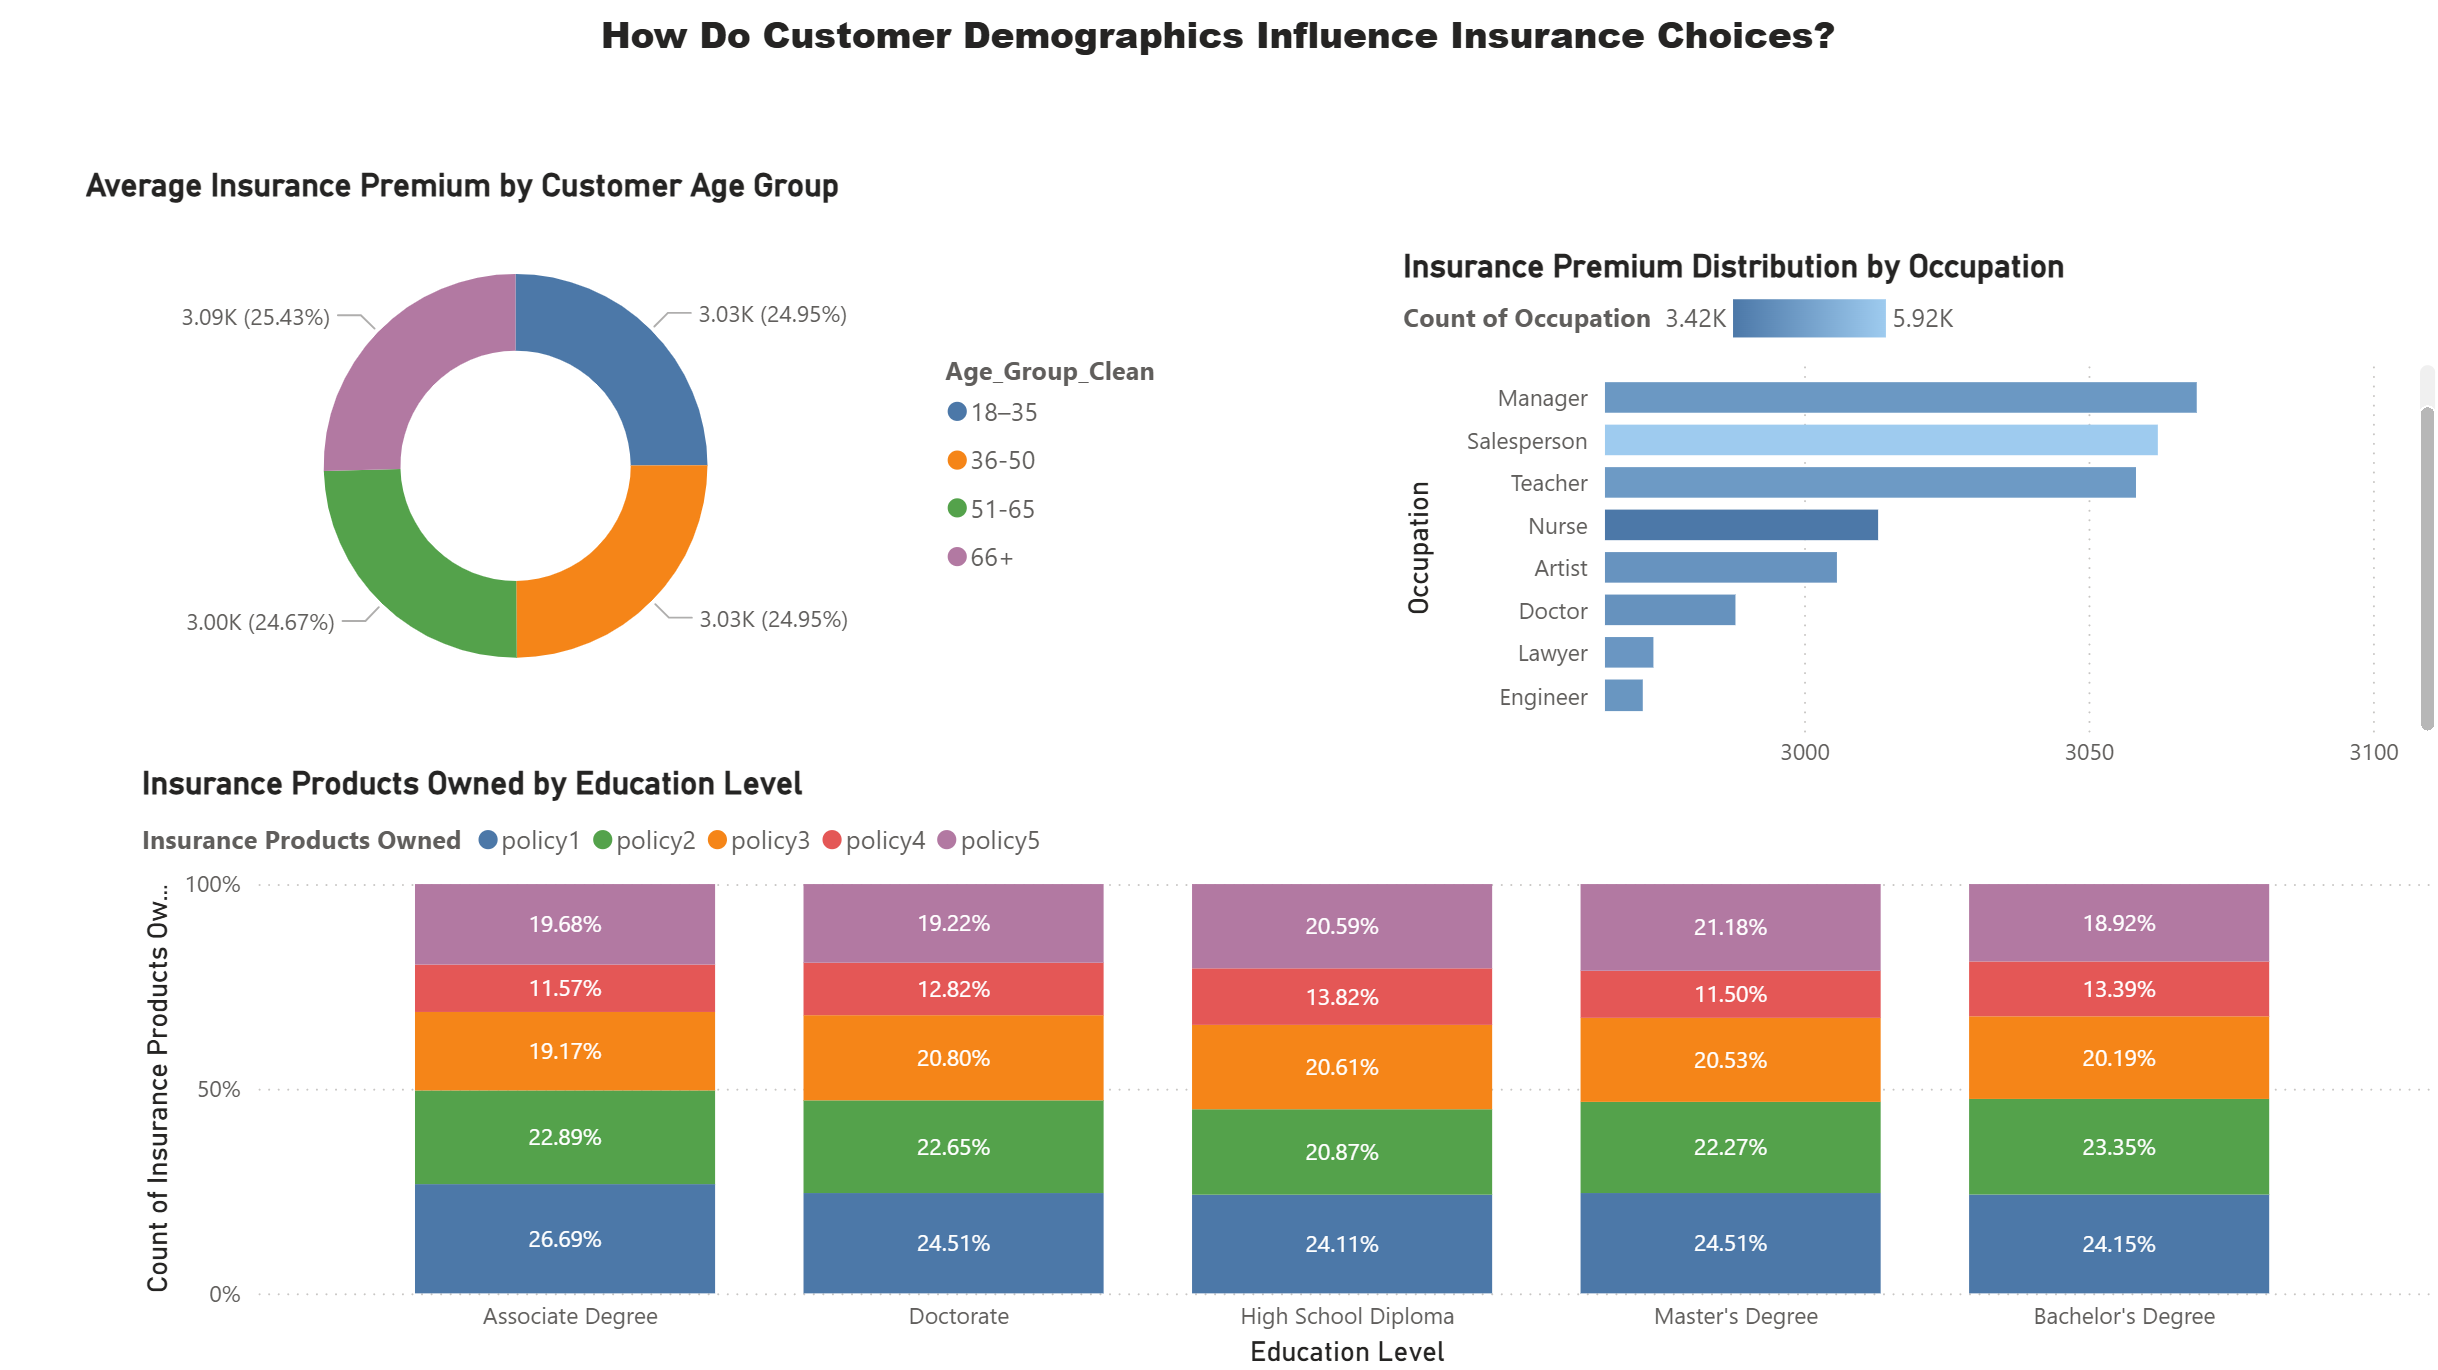

The page's visual inventory and layout, read from the dashboard file:
{"tool":"powerbi","page":{"name":"Page 1","canvas":[1280,720],"ordinal":3},"visuals":[{"type":"textbox","box":[310.8,0,666,70.4],"z":0},{"type":"donutChart","title":"Average Insurance Premium by Customer Age Group","fields":{"Category":["Customer_data.Age_Group_Clean"],"Y":["Avg(Policy_data.Premium Amount)"]},"box":[27.1,87.1,612.9,294.3],"z":1000},{"type":"clusteredBarChart","title":"Insurance Premium Distribution by Occupation","fields":{"Category":["Customer_data.Occupation"],"Y":["Avg(Policy_data.Premium Amount)"]},"box":[707.1,87.1,551.4,294.3],"z":2000},{"type":"hundredPercentStackedColumnChart","title":"Insurance Products Owned by Education Level","fields":{"Category":["Customer_data.Education Level"],"Series":["Policy_data.Insurance Products Owned"],"Y":["CountNonNull(Policy_data.Insurance Products Owned)"]},"box":[49.5,399.5,1209.7,321.2],"z":3000}]}

Visuals, with their boxes in screenshot pixels (x1, y1, x2, y2), scaled from the page's 1280x720 canvas onto the 2438x1370 screenshot:
textbox: l=592, t=0, r=1860, b=134
"Average Insurance Premium by Customer Age Group" donutChart: l=52, t=166, r=1219, b=726
"Insurance Premium Distribution by Occupation" clusteredBarChart: l=1347, t=166, r=2397, b=726
"Insurance Products Owned by Education Level" hundredPercentStackedColumnChart: l=94, t=760, r=2398, b=1369
